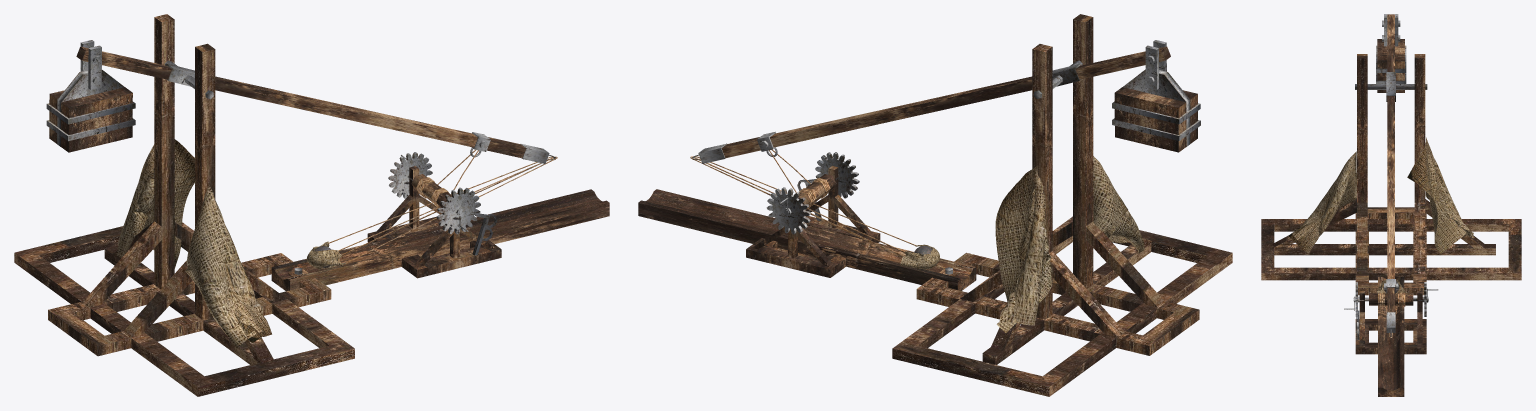
The model's file is trebuchet(formats).fbx.
The picture shows the model from 3 angles, left to right: view 1: azimuth 30°, elevation 25°; view 2: azimuth 150°, elevation 25°; view 3: azimuth 270°, elevation 25°; orthographic projection. The views are drawn at different scales.
Parts seen in each view (by area): view 1: direkler1, ayak1, kumaslar, kizak, kol, agirlik, ayak2, mekanizma, ipler, torba, dirsek; view 2: direkler1, ayak1, kumaslar, kizak, kol, agirlik, ayak2, mekanizma, ipler, torba, dirsek; view 3: ayak1, direkler1, kumaslar, kol, kizak, ayak2, agirlik, mekanizma, dirsek, ipler.
Boxes of the visible parts, box(x1,y1,x2,y2) form: direkler1: box(48, 14, 331, 356); ayak1: box(14, 221, 354, 396); kumaslar: box(116, 139, 271, 347); kizak: box(271, 189, 609, 291); kol: box(76, 46, 555, 163); agirlik: box(46, 40, 135, 152); ayak2: box(367, 166, 501, 278); mekanizma: box(388, 152, 497, 255); ipler: box(327, 149, 557, 263); torba: box(307, 241, 345, 269); dirsek: box(165, 60, 213, 99); direkler1: box(916, 14, 1199, 355); ayak1: box(892, 216, 1232, 396); kumaslar: box(995, 156, 1144, 332); kizak: box(638, 189, 976, 290); kol: box(692, 46, 1170, 163); agirlik: box(1112, 40, 1200, 152); ayak2: box(746, 166, 880, 277); mekanizma: box(766, 152, 859, 234); ipler: box(690, 149, 916, 257); torba: box(900, 244, 939, 269); dirsek: box(1033, 60, 1082, 98); ayak1: box(1261, 199, 1521, 280); direkler1: box(1355, 54, 1426, 295); kumaslar: box(1288, 137, 1474, 253); kol: box(1384, 14, 1398, 337); kizak: box(1378, 277, 1404, 396); ayak2: box(1355, 291, 1426, 354); agirlik: box(1376, 14, 1406, 92); mekanizma: box(1344, 282, 1438, 339); dirsek: box(1355, 72, 1427, 101); ipler: box(1378, 286, 1405, 337).
Size of the model in its own units: 1699 by 863 by 994.
Materials: 12 (12 with a texture image).
